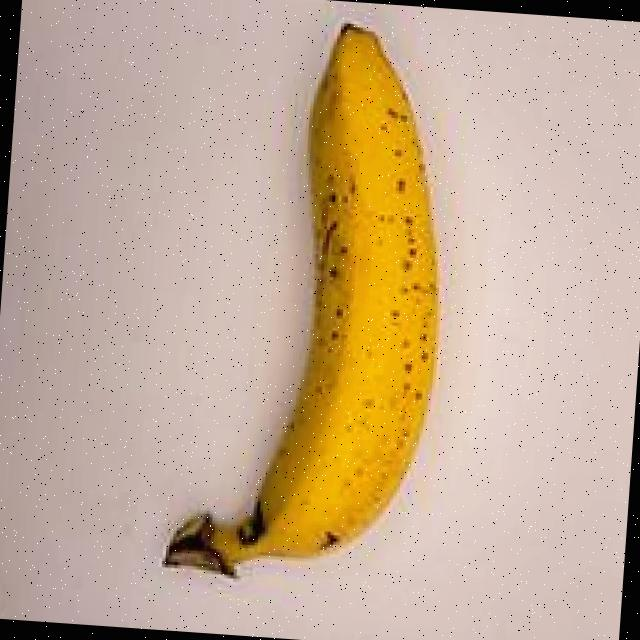Overripe: (146, 0, 495, 618)
